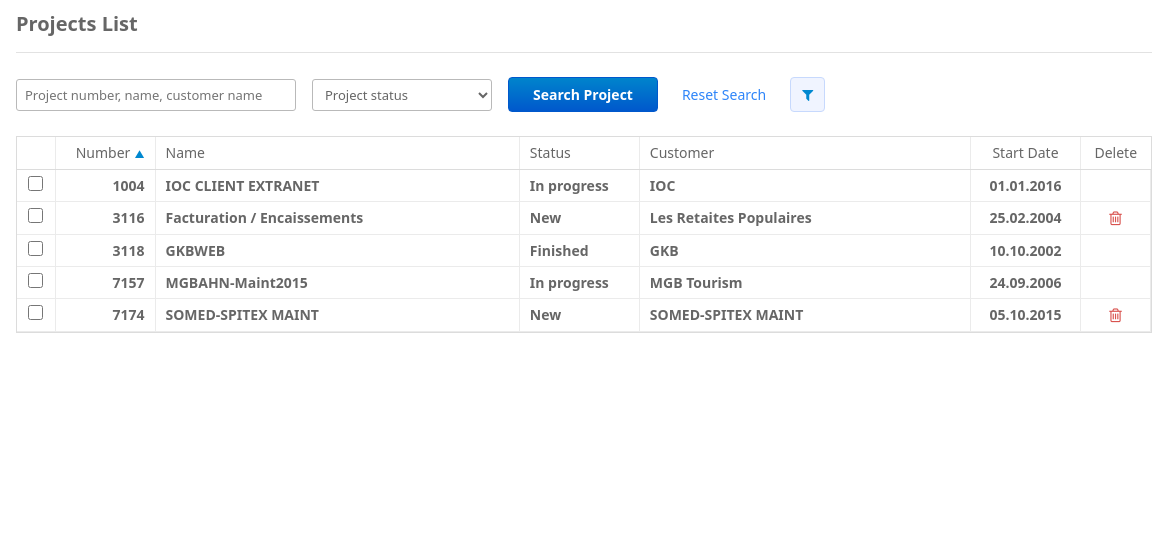
Test: ProjectList Component Tests › toggles advanced filter section on button click
Check: the link "3116" is shown, box [112,208,144,227]
Check: the field labelled "Group (Leader Visa)" is not shown
Click the button named "Advanced Filter": [808, 94] box [790,77,825,112]
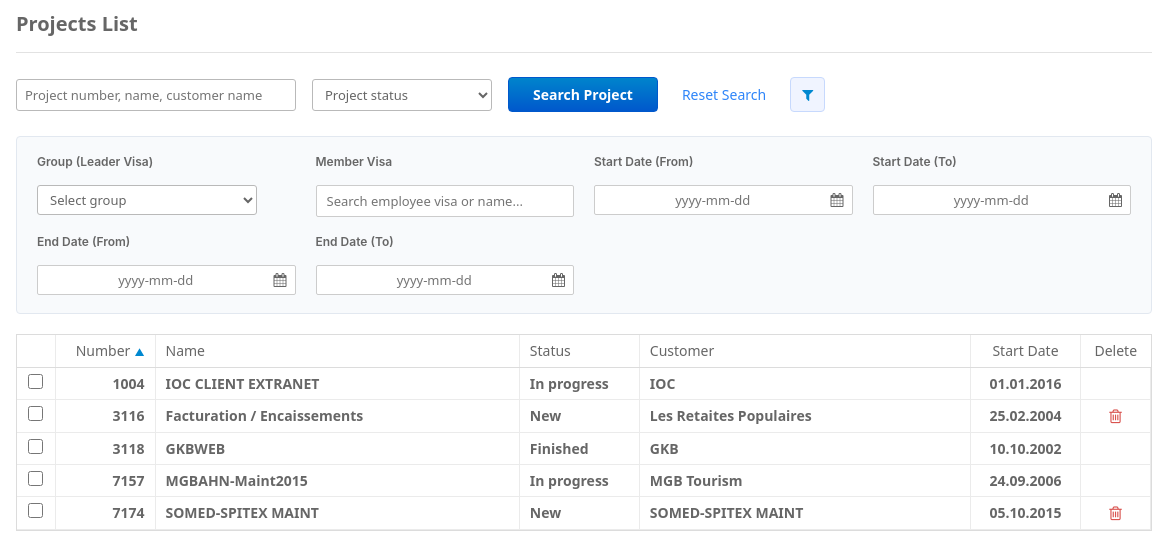
Check: the dropdown labelled "Group (Leader Visa)" is shown, box [37,185,257,215]
Check: the field with placeholder "Search employee visa or name..." is shown, box [322,189,567,213]
Click the button named "Advanced Filter": [808, 94] box [790,77,825,112]
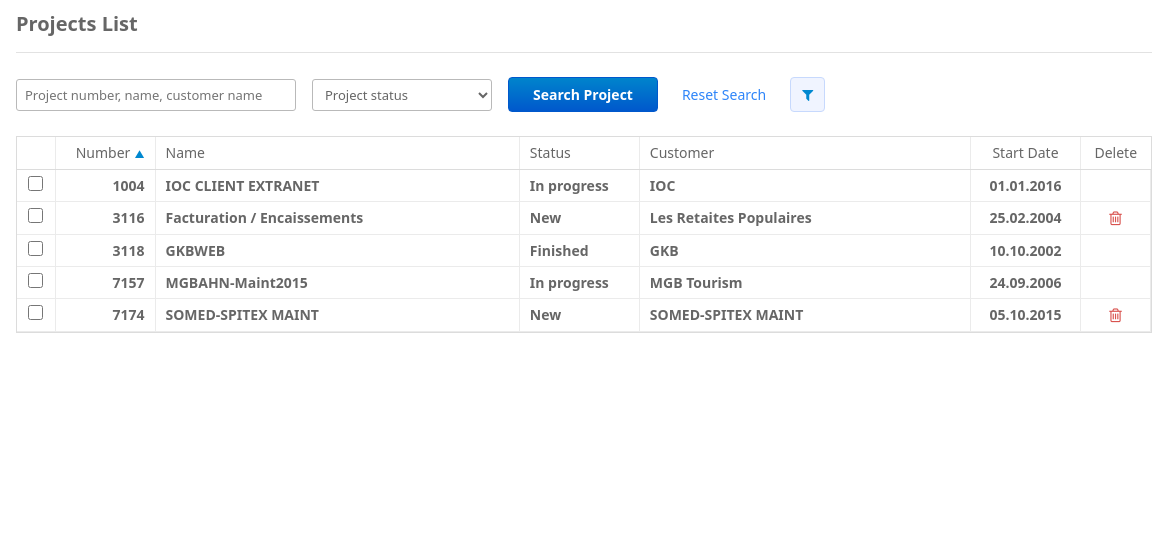
Check: the label labelled "Group (Leader Visa)" is gone
